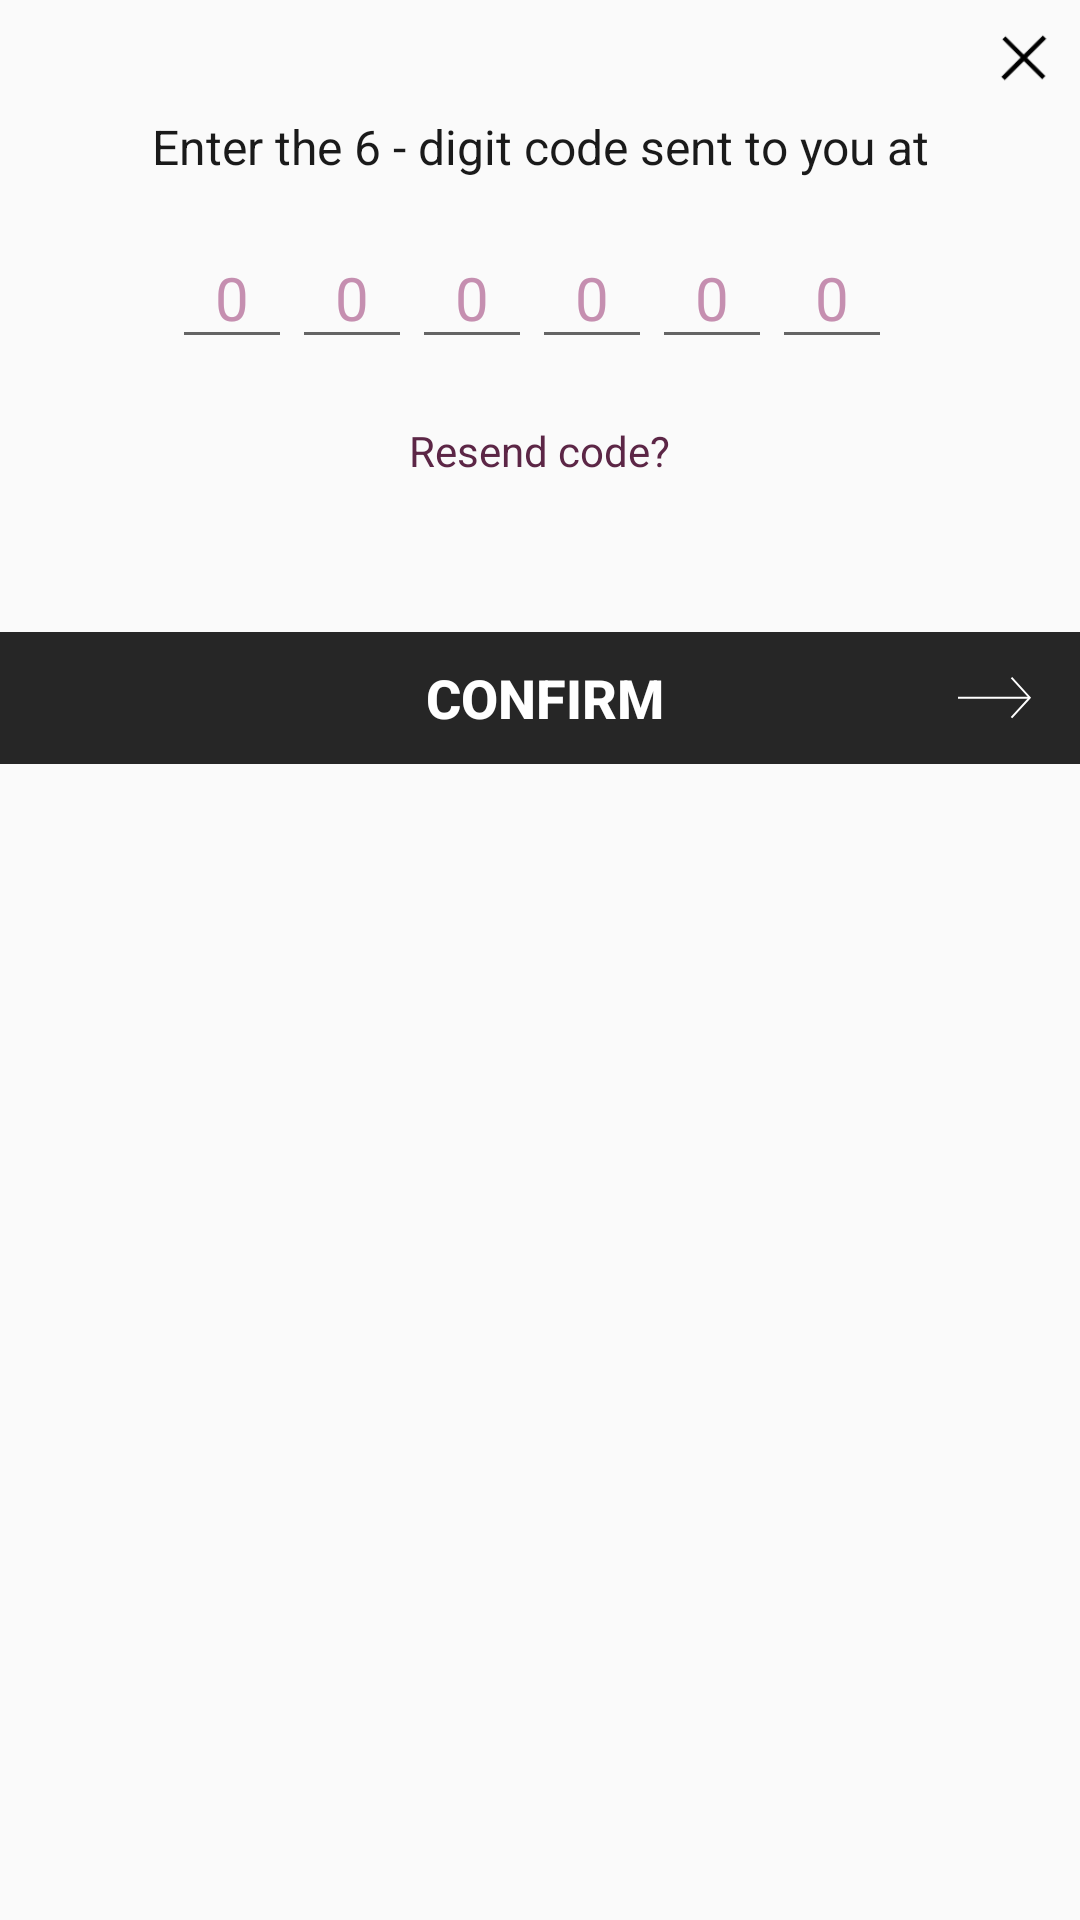

Icon bounding boxes for this 1080 × 1920 phone screenshot, format (x1, y1, x2, y2):
close: (1001, 35, 1047, 81)
